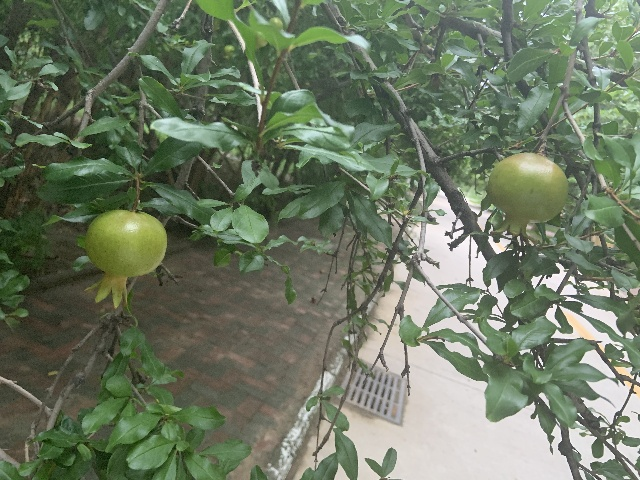mid-growth: (83, 209, 167, 309), (486, 152, 568, 245)
